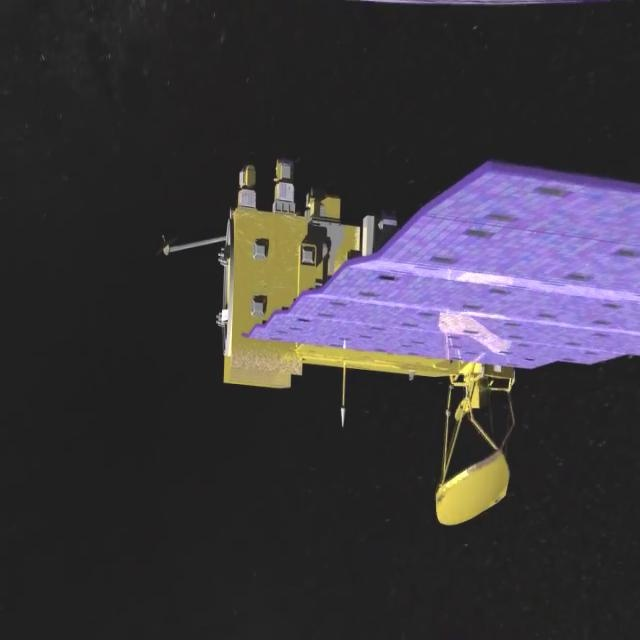satellite: (160, 141, 640, 539)
